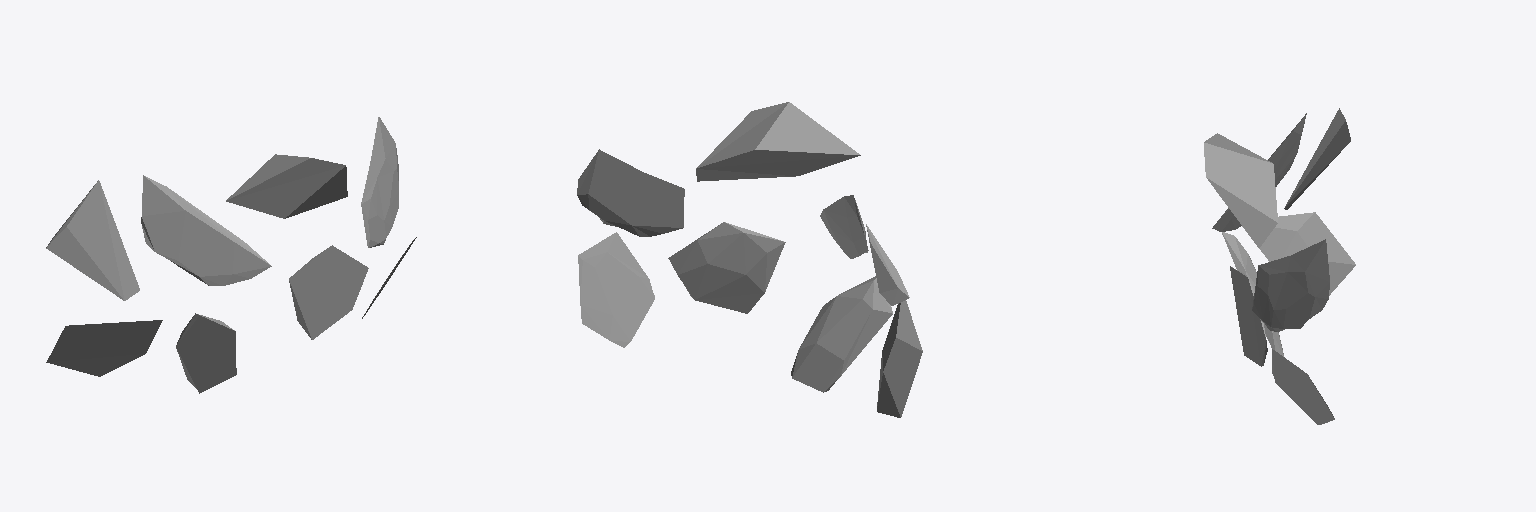
Rendered from Rage_Background2.obj.
3 views of the same model, side by side, from view 1: azimuth 30°, elevation 25°; view 2: azimuth 150°, elevation 25°; view 3: azimuth 270°, elevation 25° (orthographic).
Visible parts, largest first — view 1: StoneFloor_FragmentOne.025, StoneFloor_FragmentOne_LOD2.022, StoneFloor_FragmentTwo_LOD2.028, StoneFloor_FragmentTwo_LOD1.024, StoneFloor_FragmentTwo_LOD2.027, StoneFloor_FragmentFive_LOD1.026, StoneFloor_FragmentThree.025; view 2: StoneFloor_FragmentTwo_LOD2.028, StoneFloor_FragmentTwo_LOD1.024, StoneFloor_FragmentThree.025, StoneFloor_FragmentFive_LOD1.026, StoneFloor_FragmentFive_LOD1.027, StoneFloor_FragmentTwo_LOD2.027, StoneFloor_FragmentOne.025, StoneFloor_FragmentOne_LOD2.022; view 3: StoneFloor_FragmentThree.025, StoneFloor_FragmentTwo_LOD2.028, StoneFloor_FragmentTwo_LOD2.027, StoneFloor_FragmentFive_LOD1.027, StoneFloor_FragmentTwo_LOD1.024, StoneFloor_FragmentOne_LOD2.022, StoneFloor_FragmentOne.025, StoneFloor_FragmentFive_LOD1.026.
Boxes of the visible parts, box(x1,y1,x2,y2) form: StoneFloor_FragmentOne.025: box(141, 175, 271, 285); StoneFloor_FragmentOne_LOD2.022: box(46, 180, 139, 300); StoneFloor_FragmentTwo_LOD2.028: box(226, 154, 347, 218); StoneFloor_FragmentTwo_LOD1.024: box(289, 245, 368, 339); StoneFloor_FragmentTwo_LOD2.027: box(46, 320, 162, 376); StoneFloor_FragmentFive_LOD1.026: box(176, 313, 236, 393); StoneFloor_FragmentThree.025: box(361, 117, 398, 247); StoneFloor_FragmentTwo_LOD2.028: box(696, 102, 860, 181); StoneFloor_FragmentTwo_LOD1.024: box(668, 222, 785, 313); StoneFloor_FragmentThree.025: box(577, 149, 684, 236); StoneFloor_FragmentFive_LOD1.026: box(791, 276, 892, 392); StoneFloor_FragmentFive_LOD1.027: box(578, 232, 654, 347); StoneFloor_FragmentTwo_LOD2.027: box(877, 300, 922, 417); StoneFloor_FragmentOne.025: box(820, 195, 868, 258); StoneFloor_FragmentOne_LOD2.022: box(866, 224, 909, 305); StoneFloor_FragmentThree.025: box(1252, 239, 1329, 331); StoneFloor_FragmentTwo_LOD2.028: box(1204, 133, 1277, 247); StoneFloor_FragmentTwo_LOD2.027: box(1242, 212, 1355, 295); StoneFloor_FragmentFive_LOD1.027: box(1272, 349, 1334, 424); StoneFloor_FragmentTwo_LOD1.024: box(1230, 266, 1267, 366); StoneFloor_FragmentOne_LOD2.022: box(1284, 108, 1350, 209); StoneFloor_FragmentOne.025: box(1212, 113, 1306, 231); StoneFloor_FragmentFive_LOD1.026: box(1222, 232, 1283, 356).
Bounding box in the file's own units: 6.06 × 4.01 × 2.28.